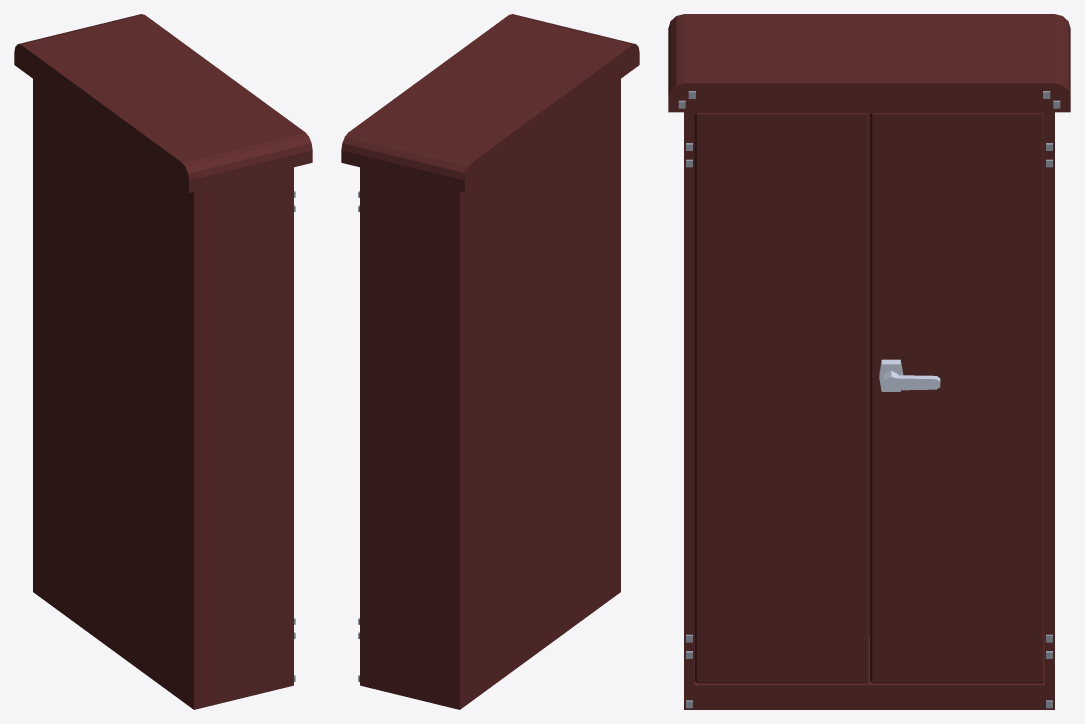
The picture shows the model from 3 angles, left to right: view 1: azimuth 30°, elevation 25°; view 2: azimuth 150°, elevation 25°; view 3: azimuth 270°, elevation 25°; orthographic projection. The views are drawn at different scales.
Parts seen in each view (by area): view 1: box.003; view 2: box.003; view 3: box.003.
Boxes of the visible parts, bbox=[...] form: box.003: bbox=[14, 14, 312, 709]; box.003: bbox=[341, 14, 639, 709]; box.003: bbox=[668, 14, 1070, 709].
Bounding box in the file's own units: 0.4759 × 1.94 × 1.12.
